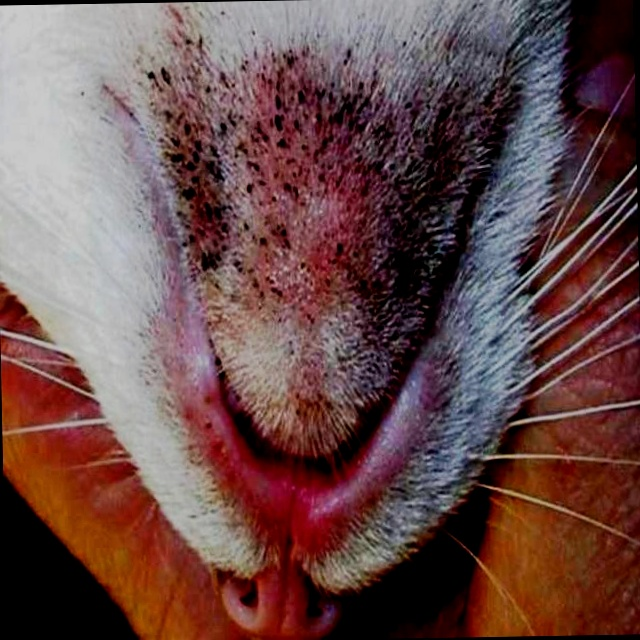acne: (142, 47, 458, 341)
